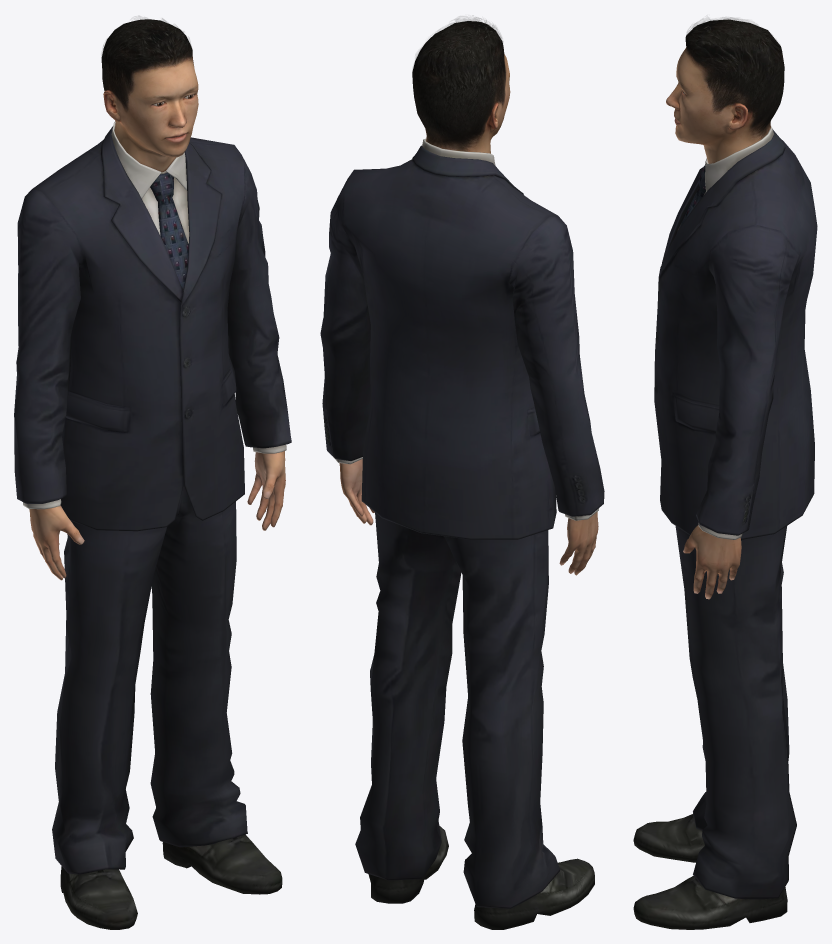
File: male-business-02.glb
The picture shows the model from 3 angles, left to right: view 1: azimuth 30°, elevation 25°; view 2: azimuth 150°, elevation 25°; view 3: azimuth 270°, elevation 25°; orthographic projection.
Visible parts, largest first — view 1: m008_hipoly_81_bones_opacity; view 2: m008_hipoly_81_bones_opacity; view 3: m008_hipoly_81_bones_opacity.
Part boxes in pixels (<box>): m008_hipoly_81_bones_opacity: <box>14,16,291,929</box>; m008_hipoly_81_bones_opacity: <box>320,17,604,929</box>; m008_hipoly_81_bones_opacity: <box>633,17,817,929</box>.
Bounding box in the file's own units: 0.55 × 1.7 × 0.3274.
Materials: 3 (3 with a texture image).
